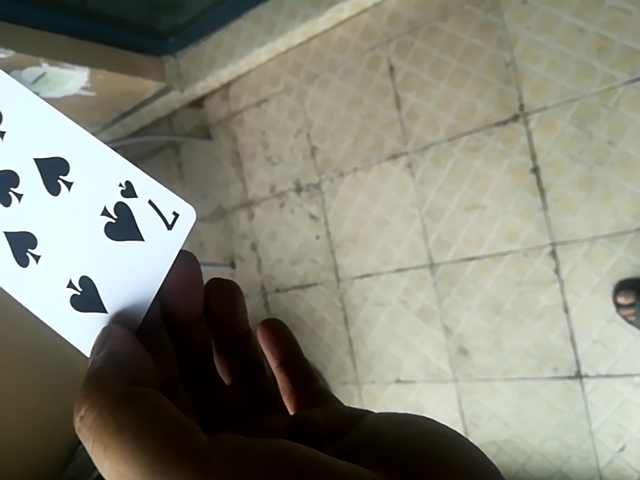ht 7: (0, 52, 196, 376)
